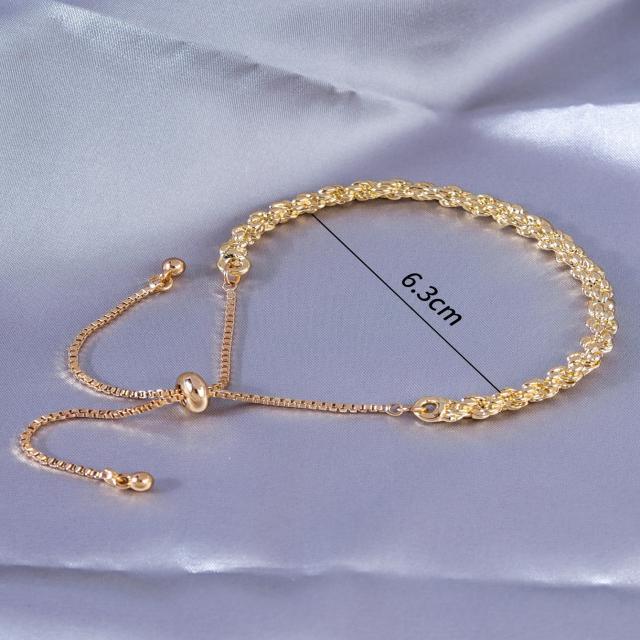bracelet: (3, 111, 640, 543)
